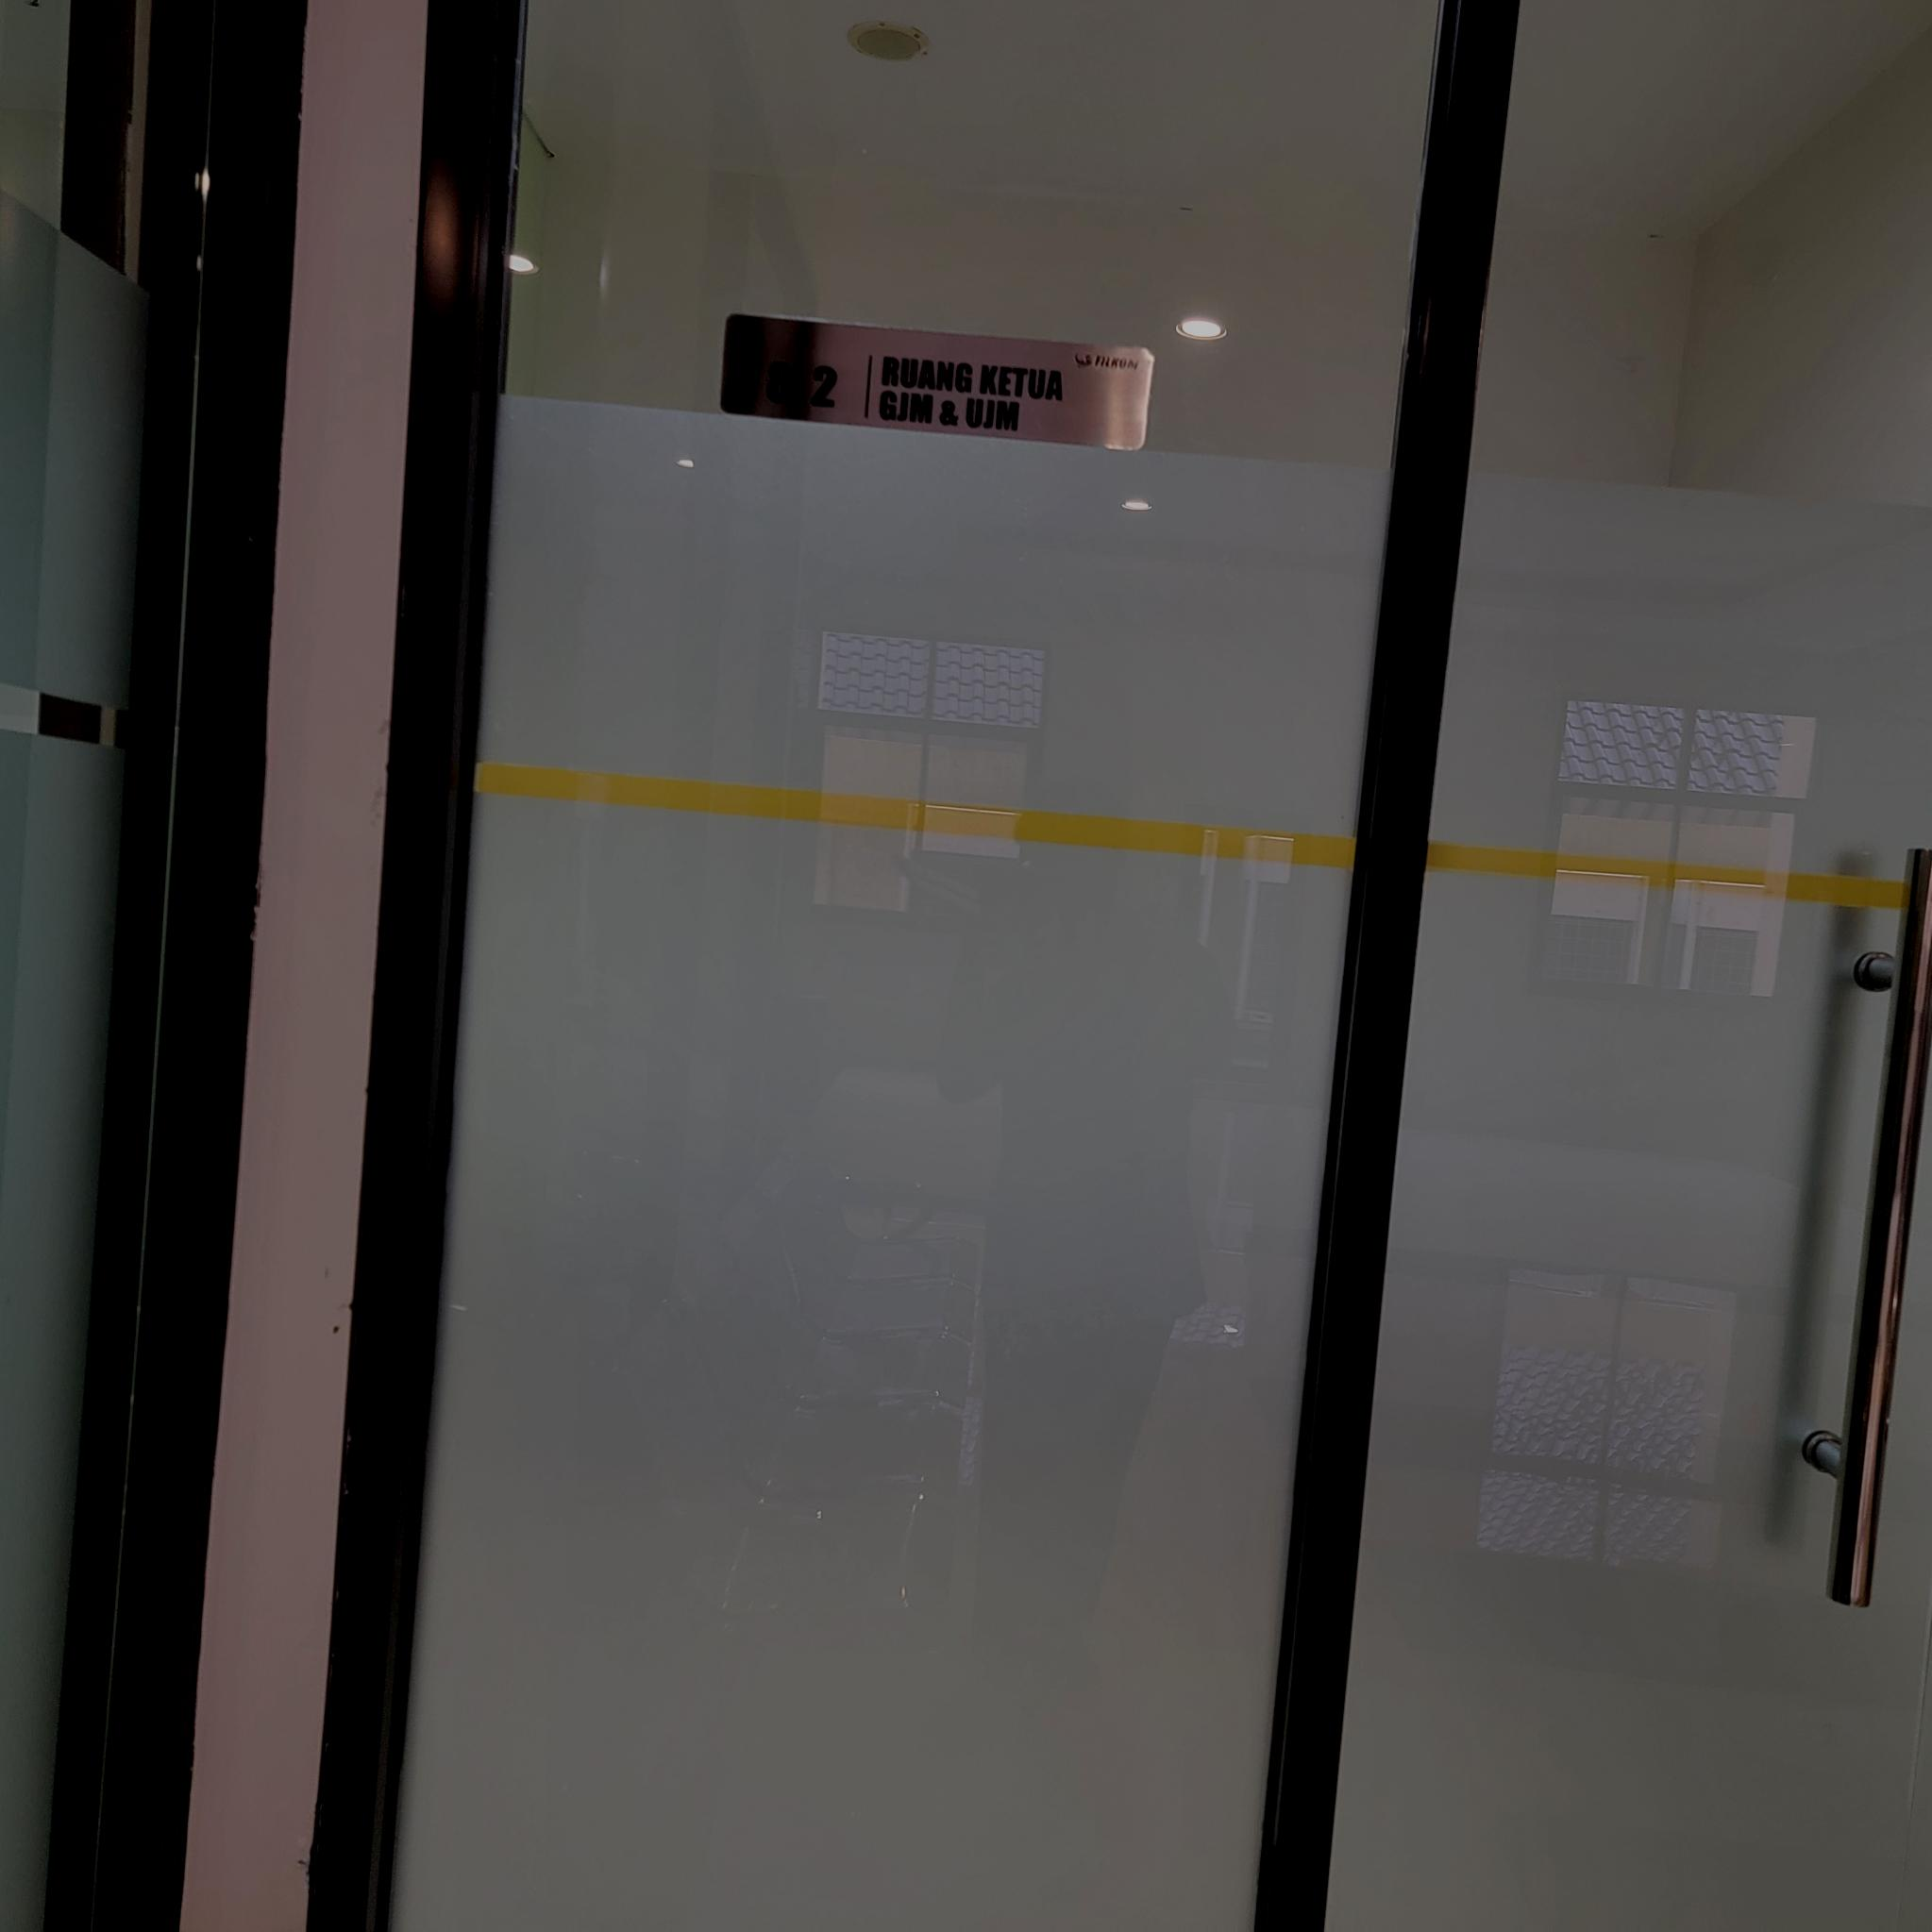plate: (722, 310, 1152, 455)
